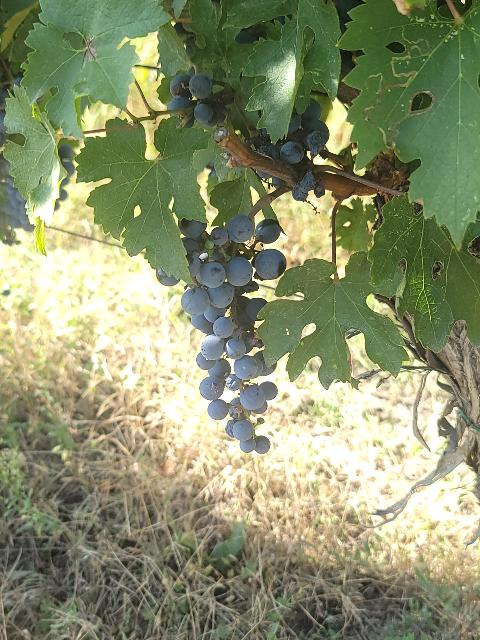grapes: (179, 215, 286, 454)
